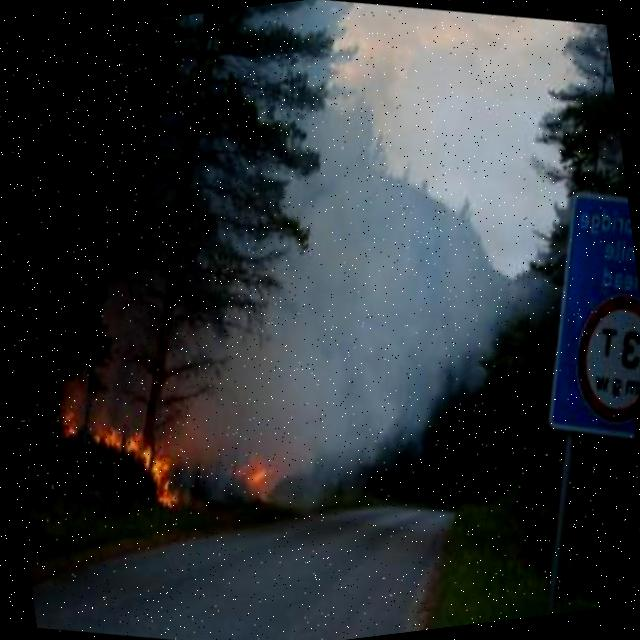fire: (49, 396, 157, 466), (139, 424, 195, 515), (230, 440, 274, 492)
